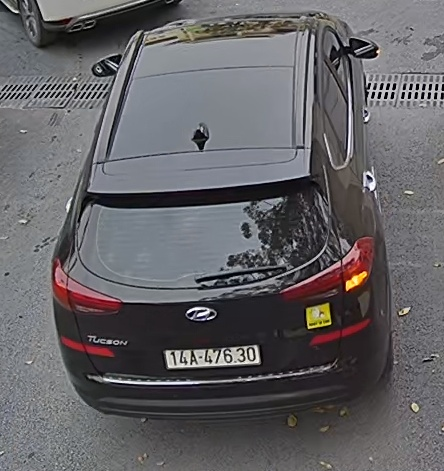vehicle plate: (160, 340, 262, 371)
